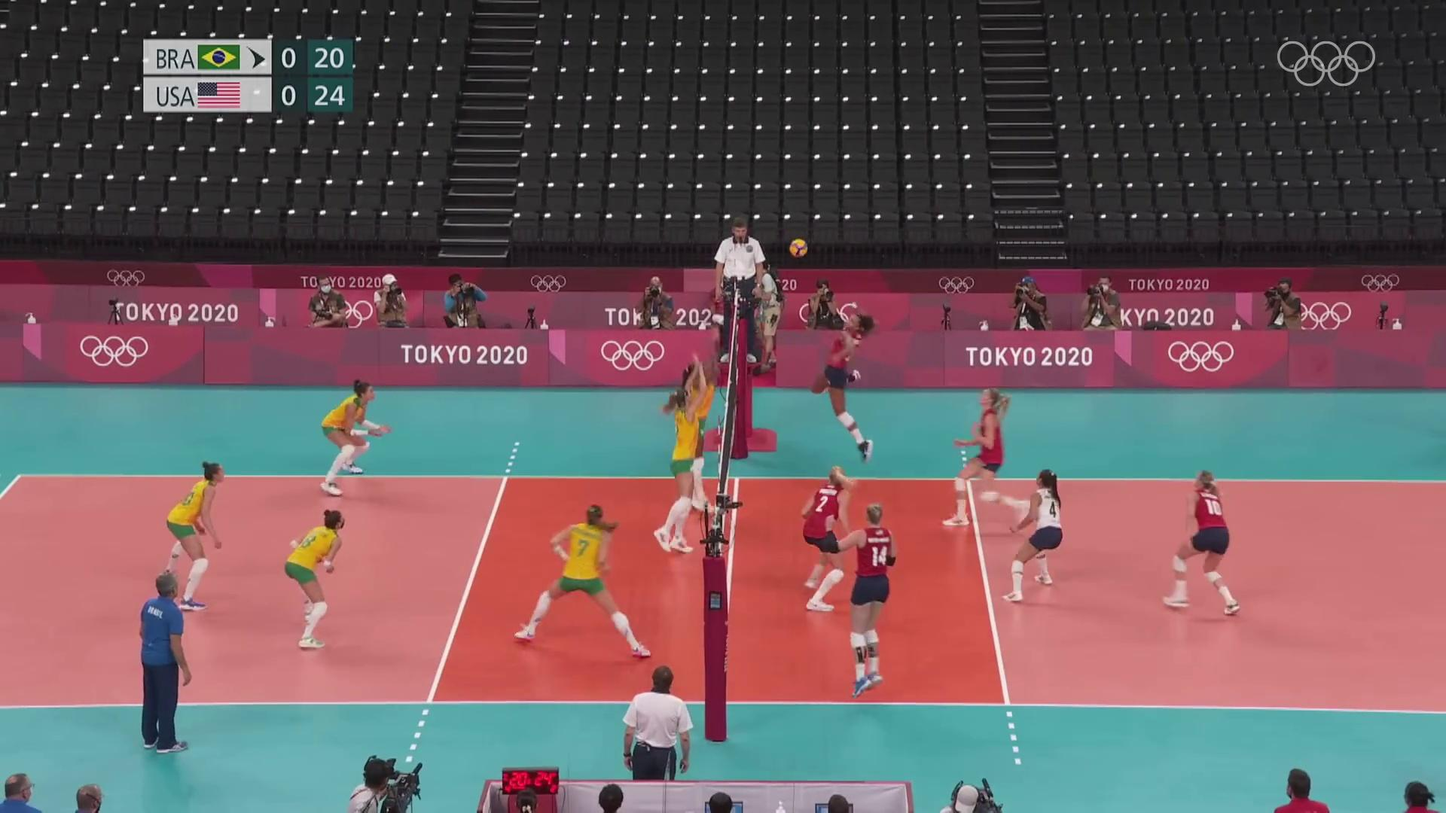player: (515, 504, 652, 657), (824, 505, 898, 690), (947, 389, 1036, 529), (1165, 471, 1241, 616), (160, 461, 229, 609), (812, 312, 874, 464), (281, 511, 345, 648), (657, 374, 705, 553), (1004, 469, 1063, 604), (322, 382, 390, 499), (802, 467, 855, 609), (680, 359, 718, 513)
refree: (622, 664, 692, 796), (716, 218, 767, 364)
